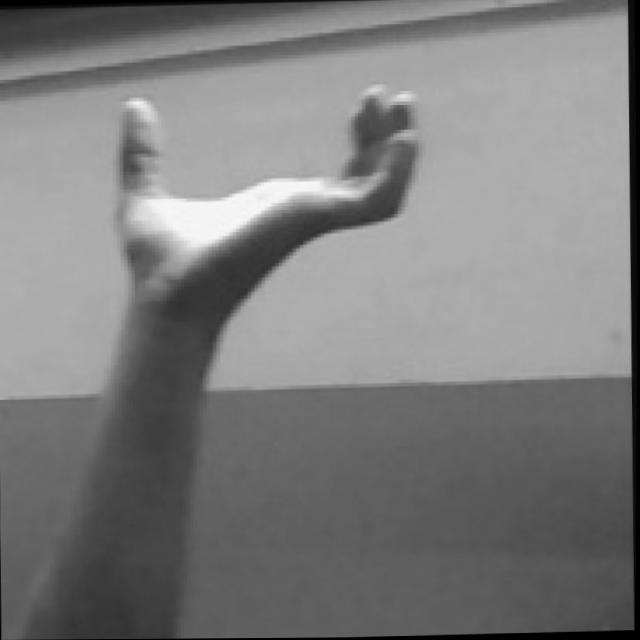space: (106, 83, 427, 301)
